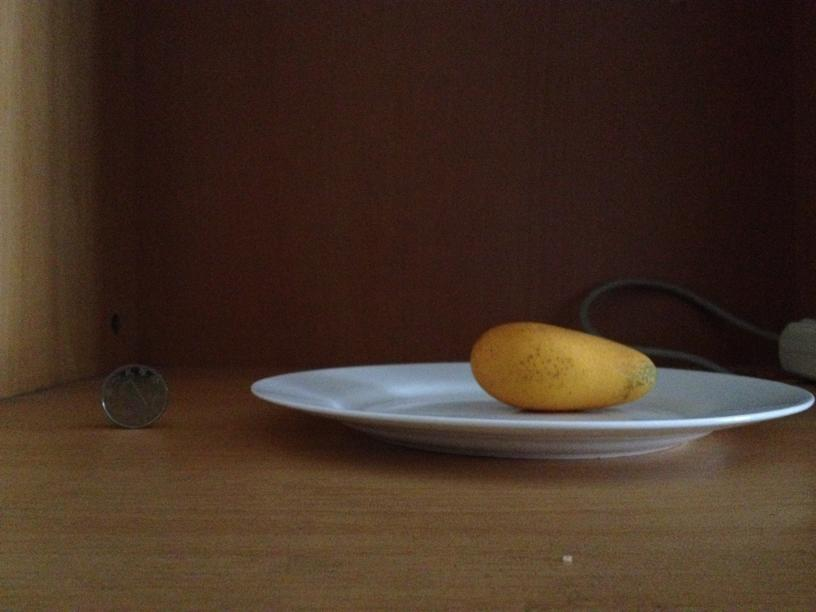coin: (100, 363, 169, 431)
mango: (466, 321, 654, 409)
